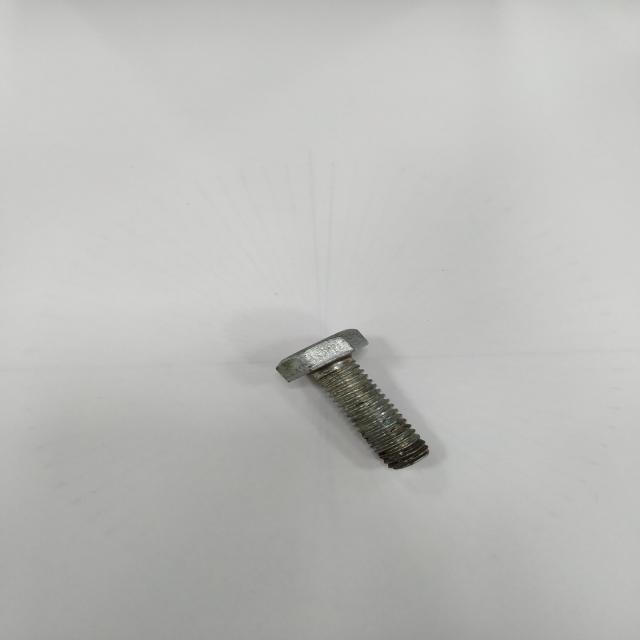Bolt: (277, 330, 428, 469)
